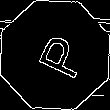P_NW: (24, 28, 86, 82)
